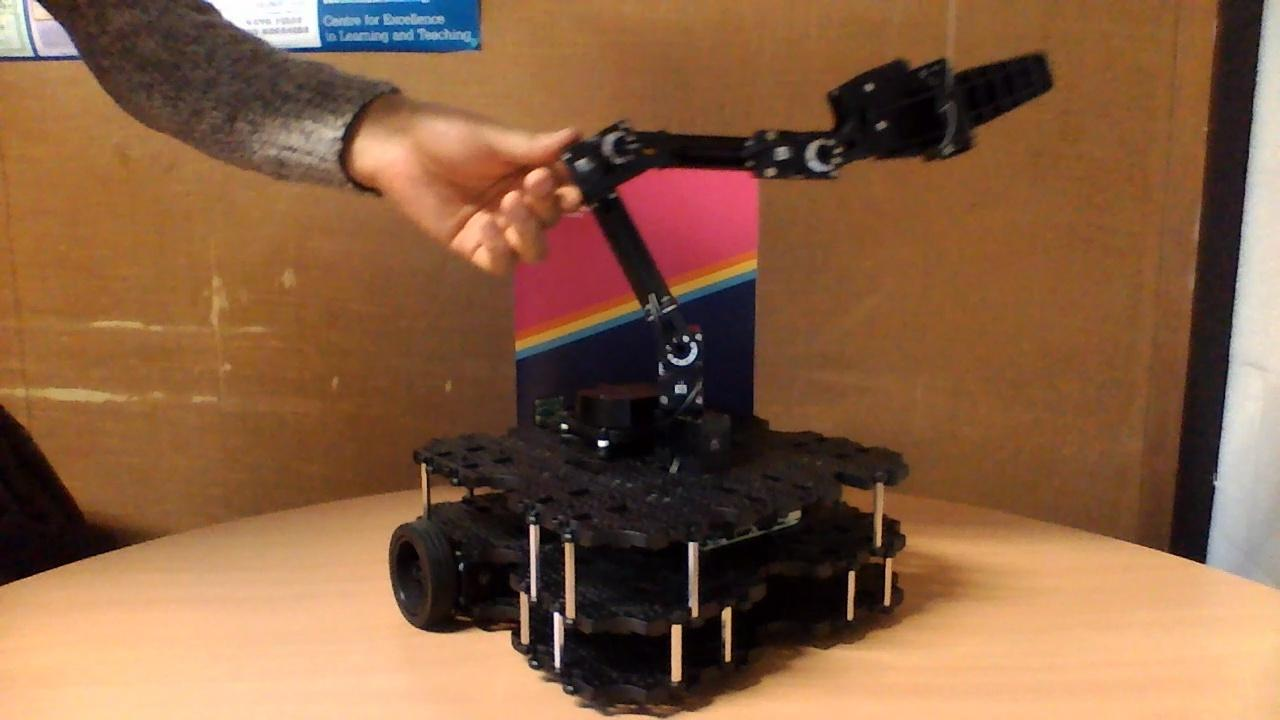Arm: (568, 169, 705, 374)
Hand: (808, 49, 1057, 176)
Wrist: (602, 119, 841, 182)
base: (386, 376, 909, 709)
